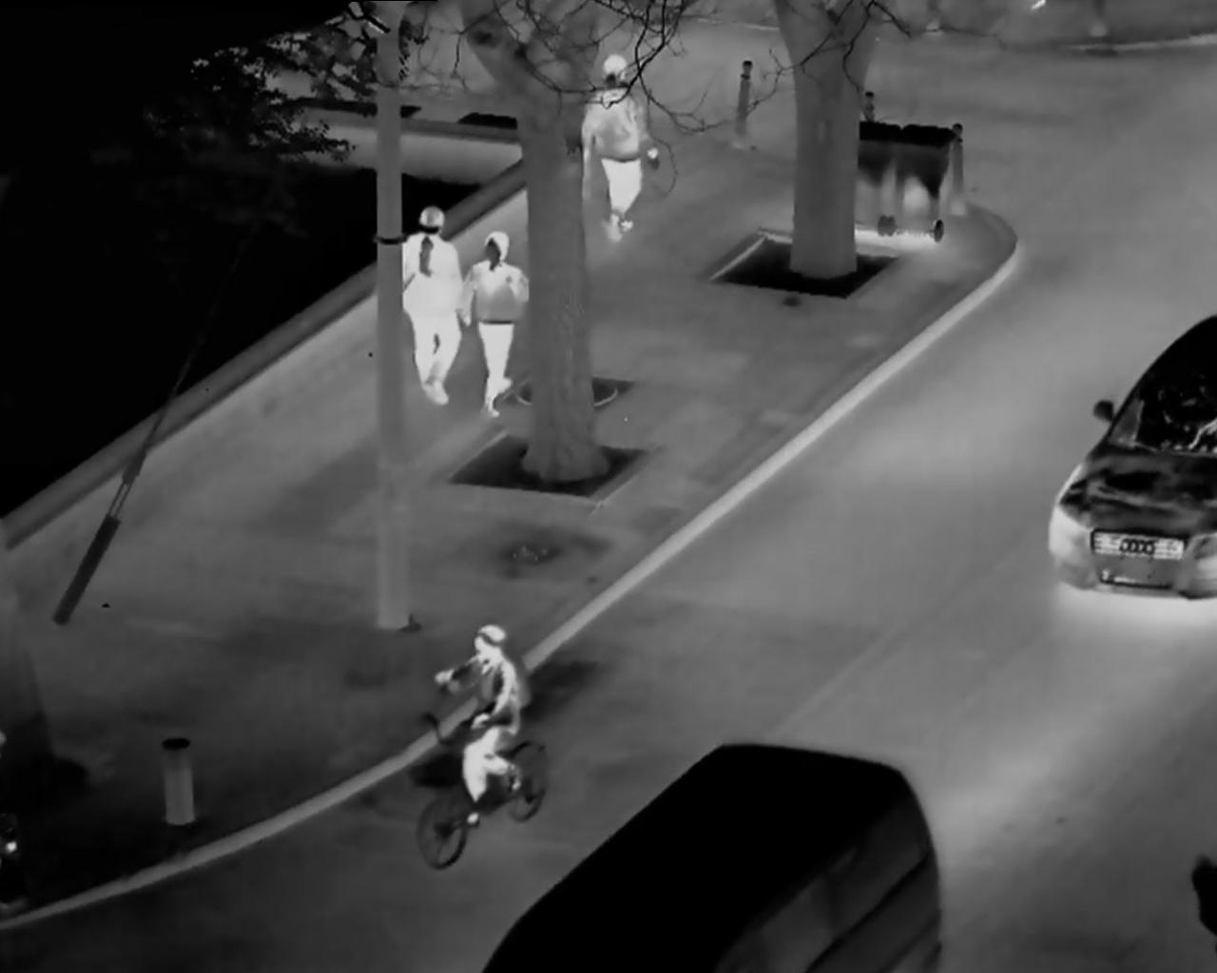person: (425, 610, 552, 849), (577, 46, 670, 249), (396, 194, 469, 420), (461, 227, 530, 429)
